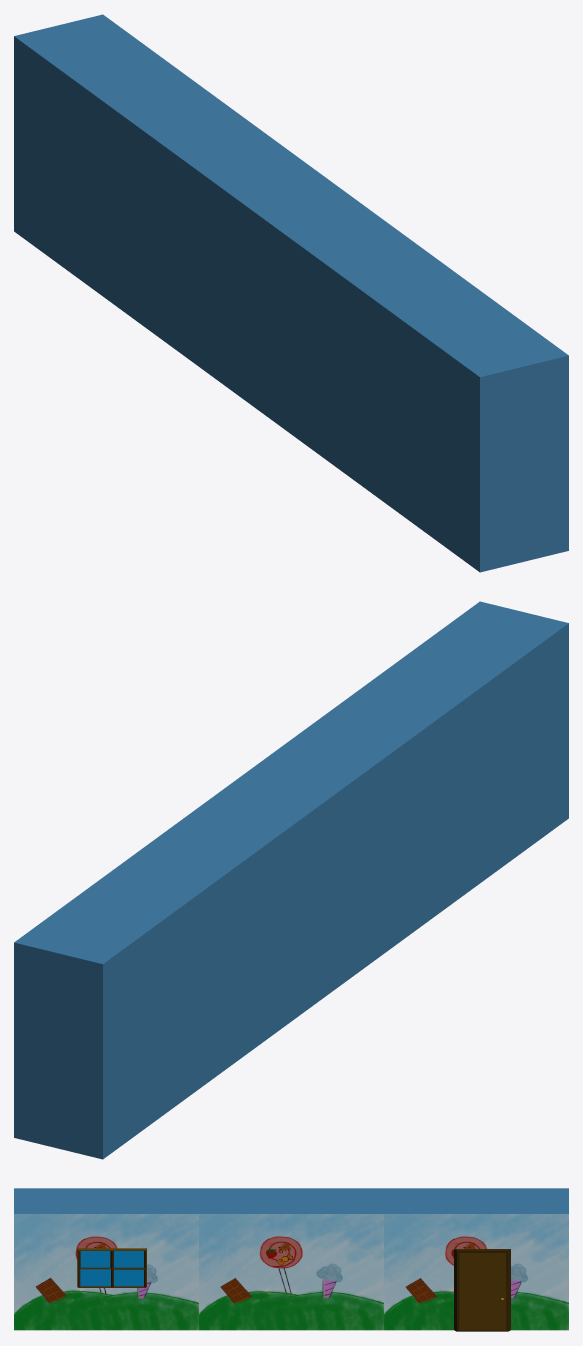
Rendered from wallwithdoorandwindow.fbx.
The picture shows the model from 3 angles, top to bottom: view 1: azimuth 30°, elevation 25°; view 2: azimuth 150°, elevation 25°; view 3: azimuth 270°, elevation 25°; orthographic projection. The views are drawn at different scales.
Parts seen in each view (by area): view 1: polySurface3; view 2: polySurface3; view 3: polySurface3.
Part boxes in pixels (x1,y1,x2,y2): polySurface3: [14, 14, 568, 572]; polySurface3: [14, 601, 568, 1159]; polySurface3: [14, 1188, 568, 1331].
Size of the model in its own units: 1.08 by 2.1 by 9.07.
7 materials, 1 textured.
